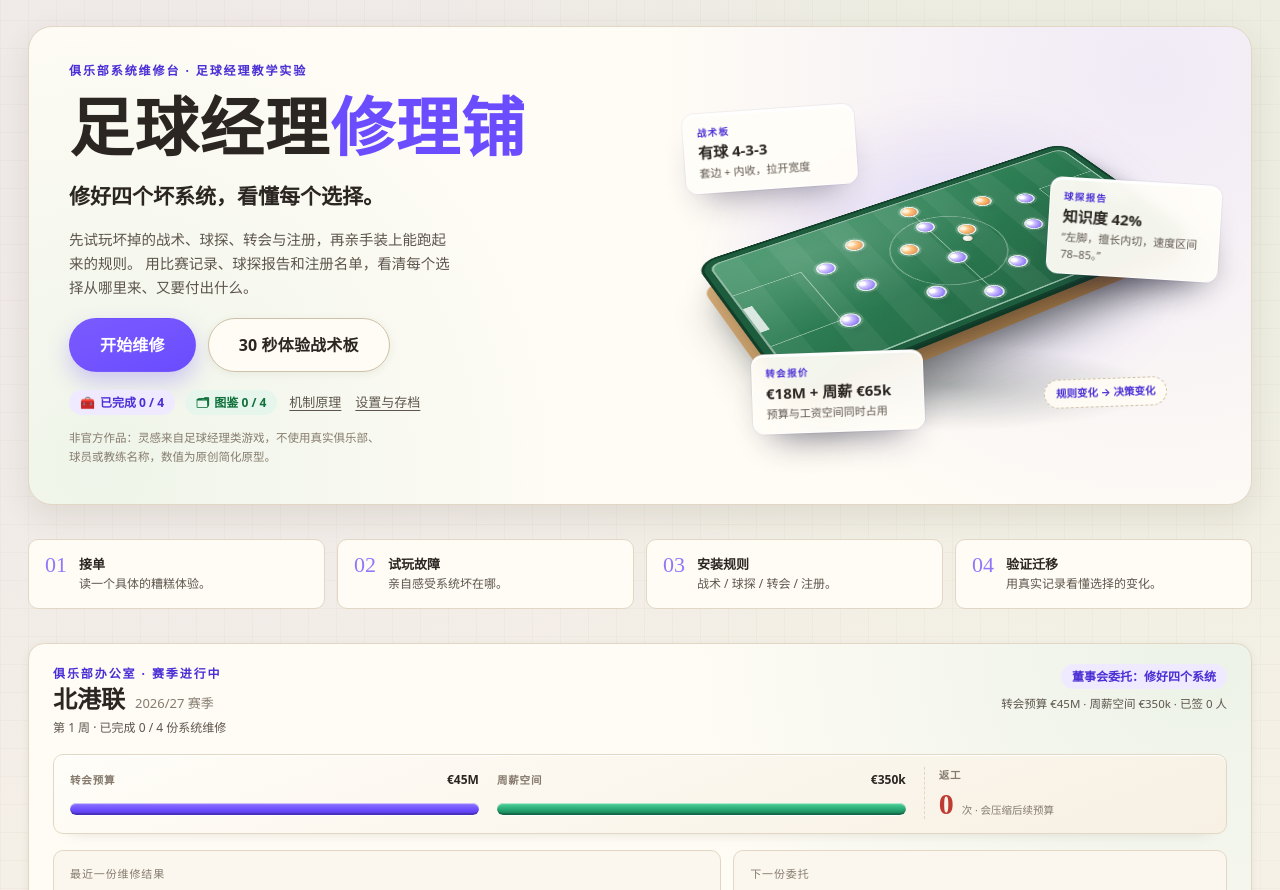
Test: 用户流程冒烟测试（足球经理题材） › 主页与关卡渲染纯 CSS 3D 视觉层
Expected: the element with class "stadium-scene" is shown, [689,84,1209,444]
Expected: the number of pictures with class "tabletop-pitch" is 1, [708,148,1180,385]
Click the button "开始维修": (132, 345) [69,318,196,372]
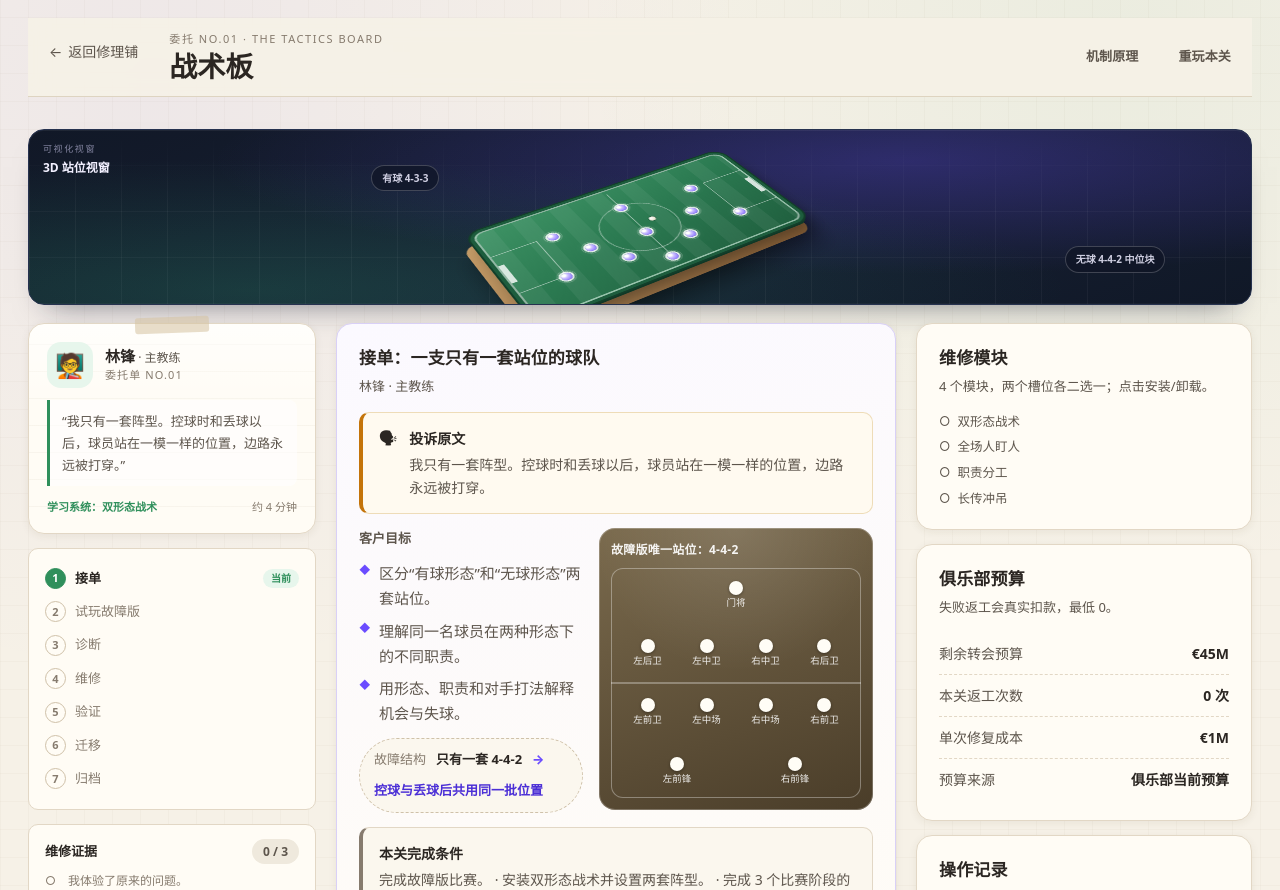
Result: the element with class "level-diorama" is shown at [28,129,1252,305]
Result: the element with class "diorama-pitch-rig" is shown at [471,152,805,305]
